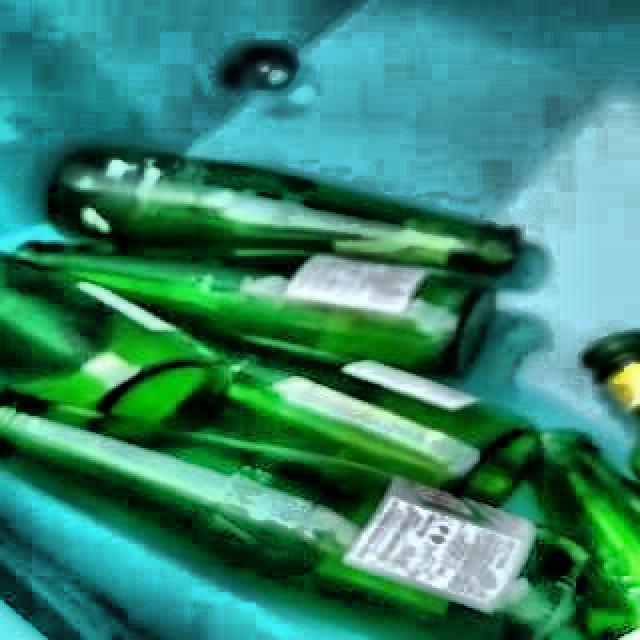glass: (0, 148, 640, 640)
